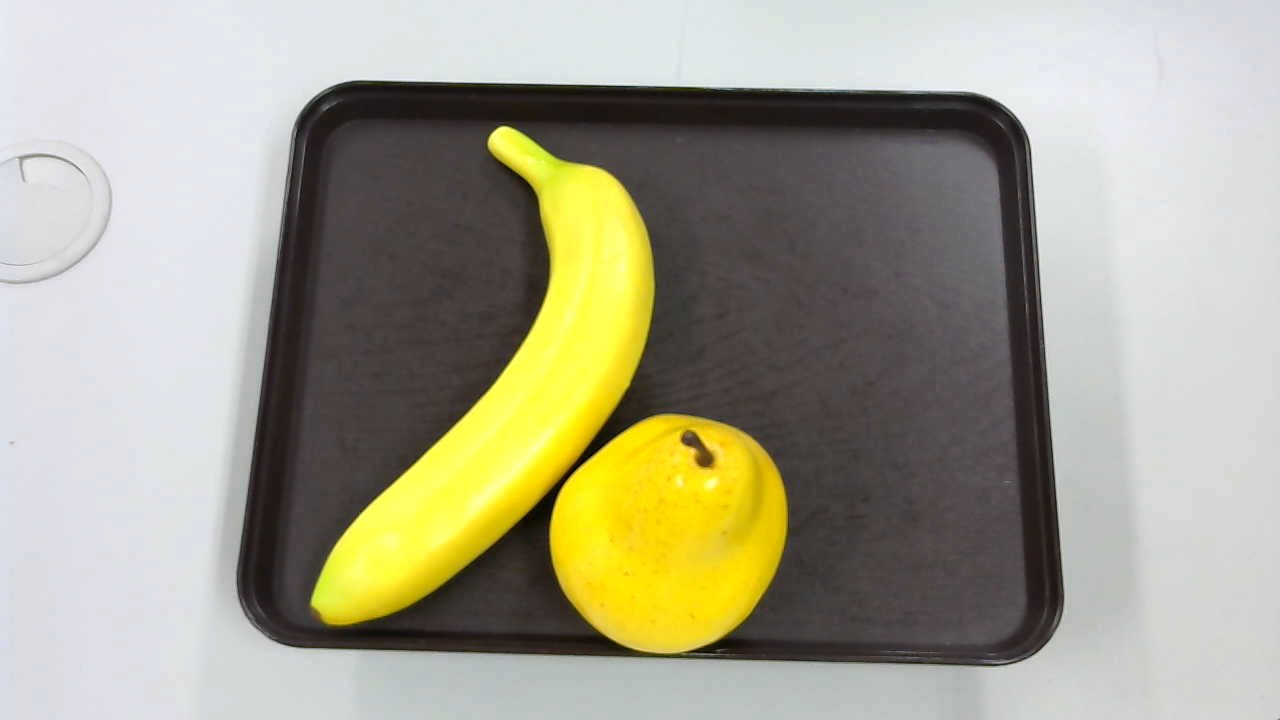banana: (314, 123, 658, 621)
yellow pear: (547, 413, 786, 651)
